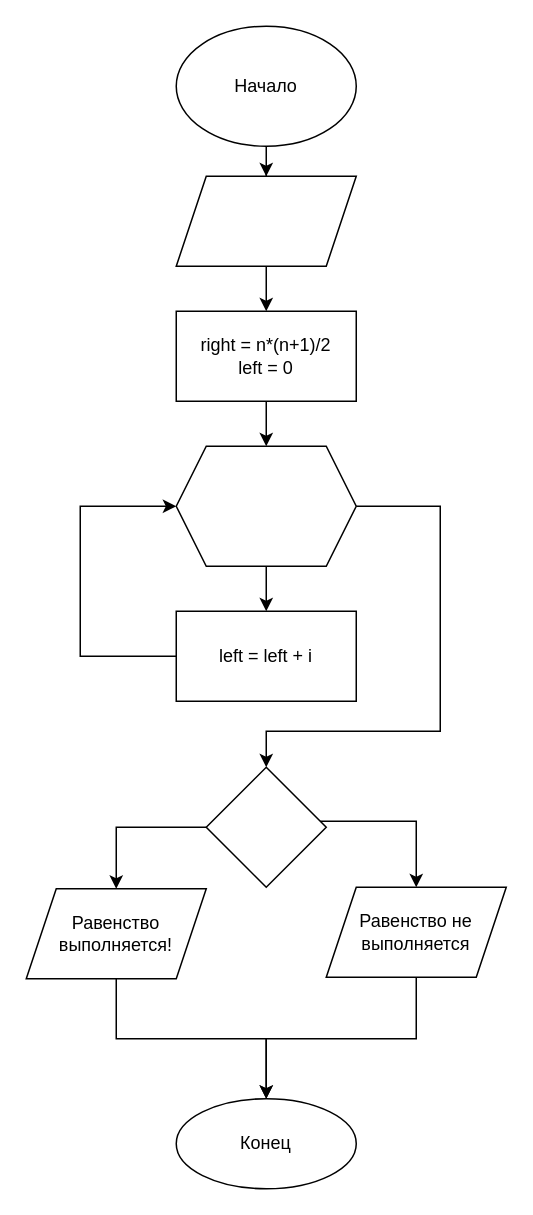
Some shapes in this 533 by 1215 pixel diagram are drawn without their labels. The centre of each missing label's shape, as x and y in pixels:
i = 1, n+1: the point at 265,505
right == left: the point at 265,826
Ввод n: the point at 265,220
